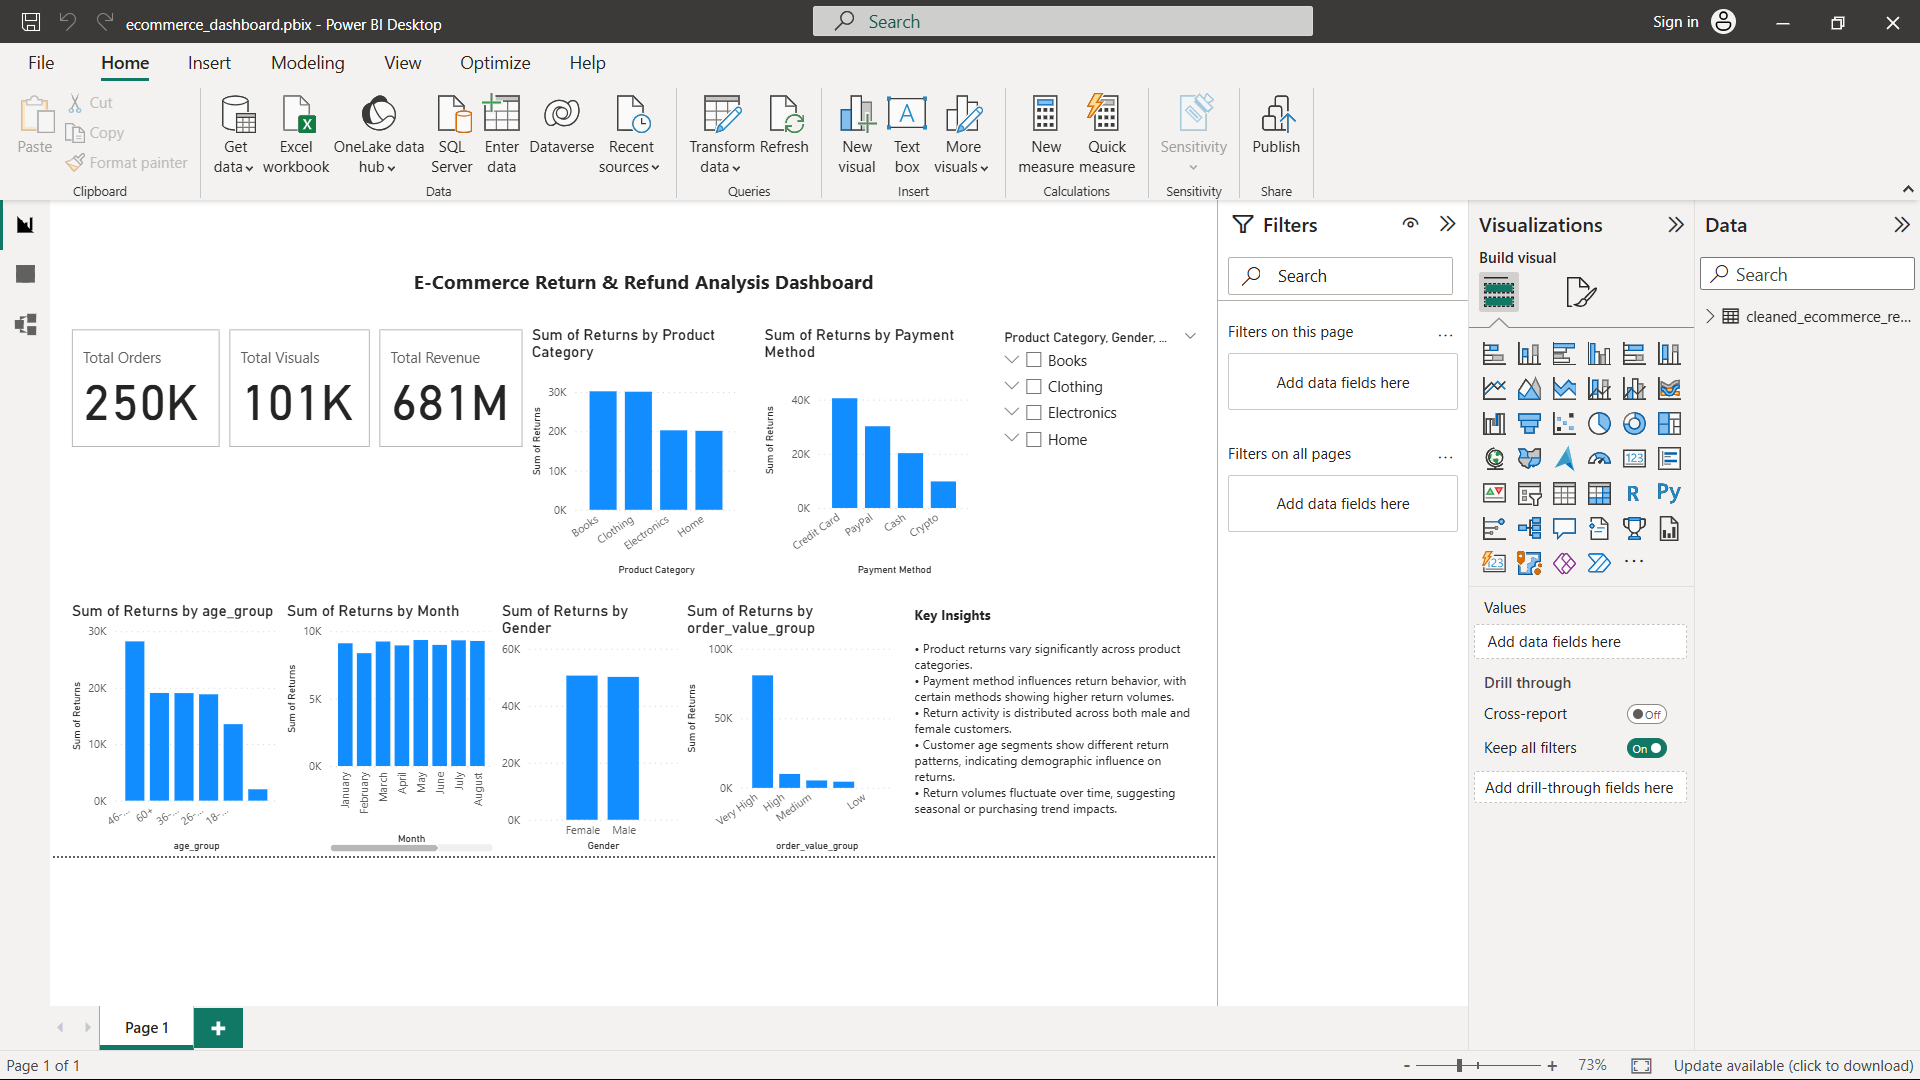

The dashboard page shown, as its layout file describes it:
{"tool":"powerbi","page":{"name":"Page 1","canvas":[1280,720],"ordinal":0},"visuals":[{"type":"cardVisual","fields":{"Data":["CountNonNull(cleaned_ecommerce_returns.Customer ID)"]},"box":[19.2,137.1,172.8,139.8],"z":0},{"type":"cardVisual","fields":{"Data":["Sum(cleaned_ecommerce_returns.Returns)"]},"box":[191.9,137.1,164.5,139.8],"z":1000},{"type":"cardVisual","fields":{"Data":["Sum(cleaned_ecommerce_returns.Total Purchase Amount)"]},"box":[356.5,137.1,167.3,139.8],"z":2000},{"type":"clusteredColumnChart","fields":{"Category":["cleaned_ecommerce_returns.Product Category"],"Y":["Sum(cleaned_ecommerce_returns.Returns)"]},"box":[523.7,137.1,235.8,279.7],"z":3000},{"type":"clusteredColumnChart","fields":{"Category":["cleaned_ecommerce_returns.Payment Method"],"Y":["Sum(cleaned_ecommerce_returns.Returns)"]},"box":[778.8,137.1,235.8,279.7],"z":4000},{"type":"clusteredColumnChart","fields":{"Category":["cleaned_ecommerce_returns.Gender"],"Y":["Sum(cleaned_ecommerce_returns.Returns)"]},"box":[490.8,440.1,202.9,279.7],"z":5000},{"type":"clusteredColumnChart","fields":{"Category":["cleaned_ecommerce_returns.order_value_group"],"Y":["Sum(cleaned_ecommerce_returns.Returns)"]},"box":[693.7,440.1,235.8,279.7],"z":7000},{"type":"clusteredColumnChart","fields":{"Category":["cleaned_ecommerce_returns.Purchase Date.Variation.Date Hierarchy.Month"],"Y":["Sum(cleaned_ecommerce_returns.Returns)"]},"box":[255,440.1,235.8,279.7],"z":8000},{"type":"slicer","fields":{"Values":["cleaned_ecommerce_returns.Product Category","cleaned_ecommerce_returns.Gender","cleaned_ecommerce_returns.age_group","cleaned_ecommerce_returns.Payment Method"]},"box":[1033.8,137.1,235.8,279.7],"z":8001},{"type":"clusteredColumnChart","fields":{"Category":["cleaned_ecommerce_returns.age_group"],"Y":["Sum(cleaned_ecommerce_returns.Returns)"]},"box":[19.2,440.1,235.8,279.7],"z":8002},{"type":"textbox","box":[372.9,69.9,556.6,48],"z":8003},{"type":"textbox","box":[943.3,440.1,326.3,246.8],"z":8004}]}

Visuals, with their boxes on the page's 1280x720 design canvas (x1, y1, x2, y2). These are canvas units, not pixel positions in the 1920x1080 screenshot, which may show the page scaled, cropped or inside an application window:
cardVisual - CountNonNull(cleaned_ecommerce_returns.Customer ID): rect(19, 137, 192, 277)
cardVisual - Sum(cleaned_ecommerce_returns.Returns): rect(192, 137, 356, 277)
cardVisual - Sum(cleaned_ecommerce_returns.Total Purchase Amount): rect(356, 137, 524, 277)
clusteredColumnChart - cleaned_ecommerce_returns.Product Category x Sum(cleaned_ecommerce_returns.Returns): rect(524, 137, 760, 417)
clusteredColumnChart - cleaned_ecommerce_returns.Payment Method x Sum(cleaned_ecommerce_returns.Returns): rect(779, 137, 1015, 417)
clusteredColumnChart - cleaned_ecommerce_returns.Gender x Sum(cleaned_ecommerce_returns.Returns): rect(491, 440, 694, 720)
clusteredColumnChart - cleaned_ecommerce_returns.order_value_group x Sum(cleaned_ecommerce_returns.Returns): rect(694, 440, 930, 720)
clusteredColumnChart - cleaned_ecommerce_returns.Purchase Date.Variation.Date Hierarchy.Month x Sum(cleaned_ecommerce_returns.Returns): rect(255, 440, 491, 720)
slicer - cleaned_ecommerce_returns.Product Category x cleaned_ecommerce_returns.Gender: rect(1034, 137, 1270, 417)
clusteredColumnChart - cleaned_ecommerce_returns.age_group x Sum(cleaned_ecommerce_returns.Returns): rect(19, 440, 255, 720)
textbox: rect(373, 70, 930, 118)
textbox: rect(943, 440, 1270, 687)
